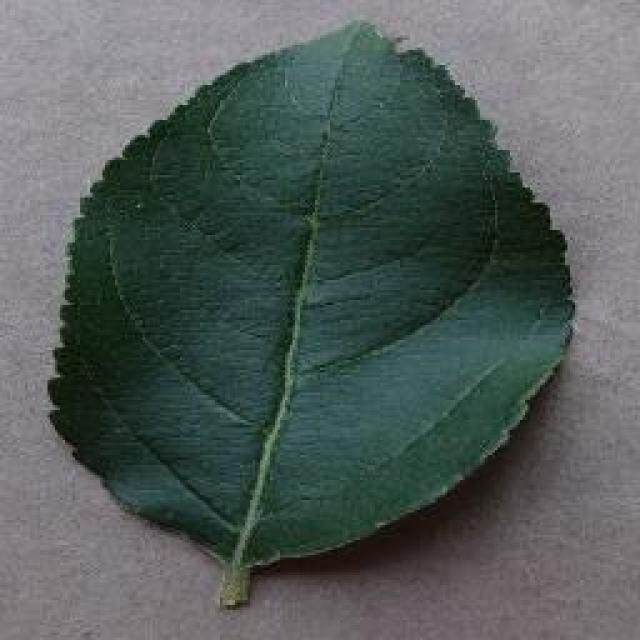apple healthy: (45, 18, 577, 608)
